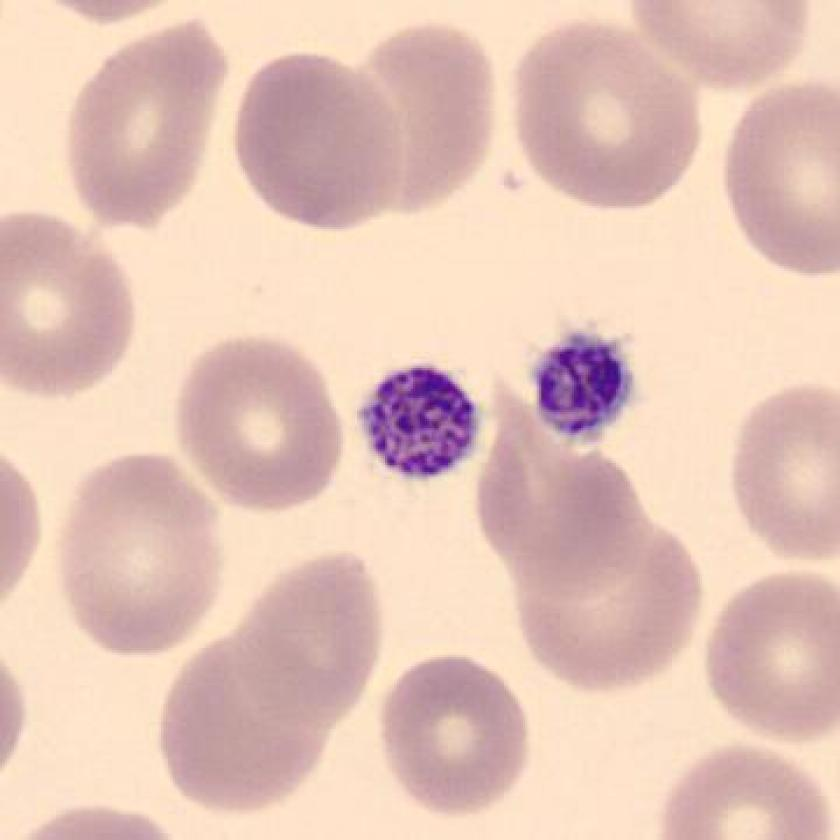platelets: (349, 353, 496, 492), (514, 314, 652, 460)
